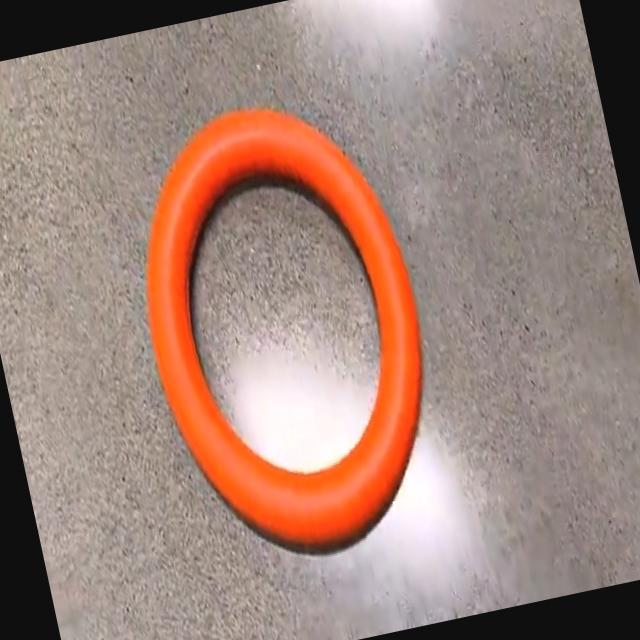note: (147, 108, 421, 549)
